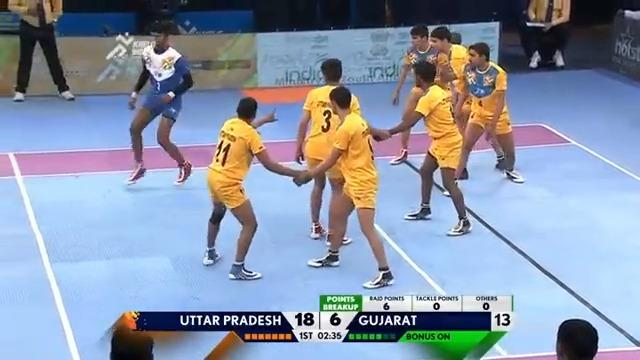Player: (293, 85, 395, 289), (201, 96, 307, 280), (370, 57, 473, 236), (293, 57, 361, 246), (451, 41, 525, 183), (389, 23, 440, 165)
Raider: (125, 20, 193, 185)
referee: (7, 0, 75, 102), (516, 0, 572, 69)
